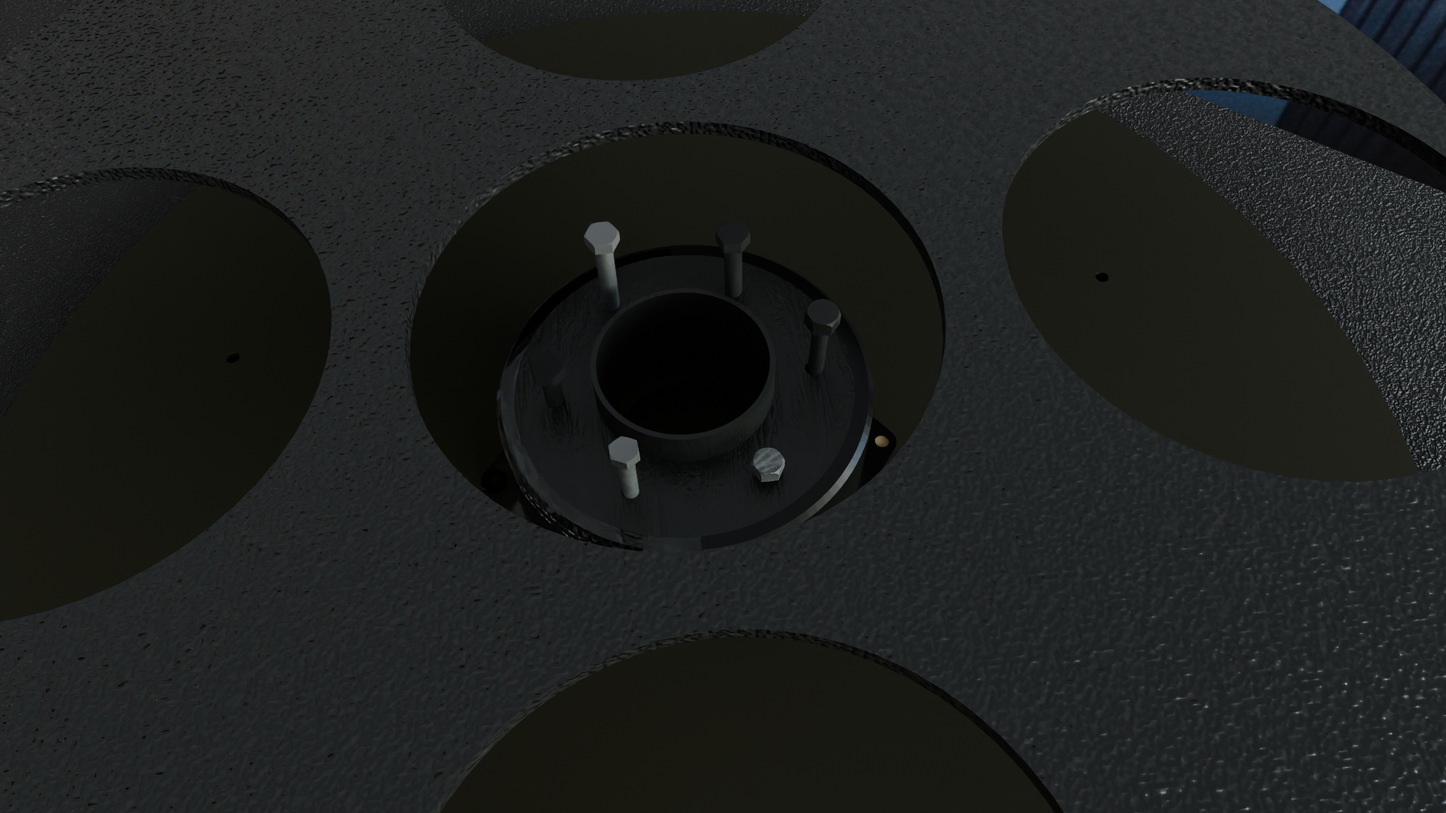bolt: (805, 299, 841, 327), (751, 447, 785, 476), (529, 353, 565, 380), (584, 221, 619, 247), (715, 221, 750, 245), (609, 436, 639, 464)
